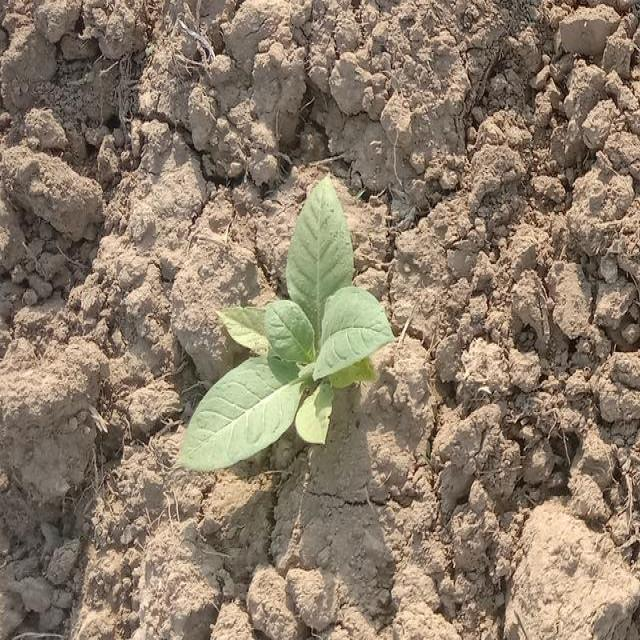crop: (174, 180, 398, 500)
